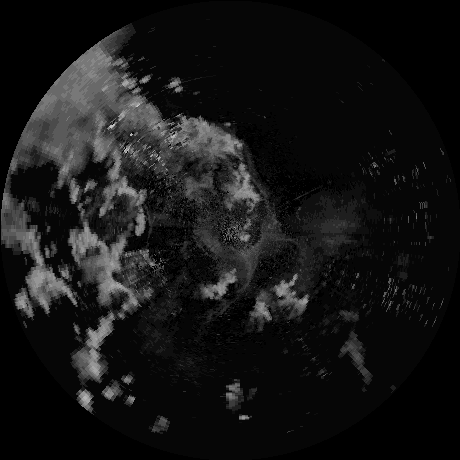frontgust: (249, 175, 272, 229), (240, 251, 254, 290), (142, 206, 154, 244), (217, 296, 238, 317)
